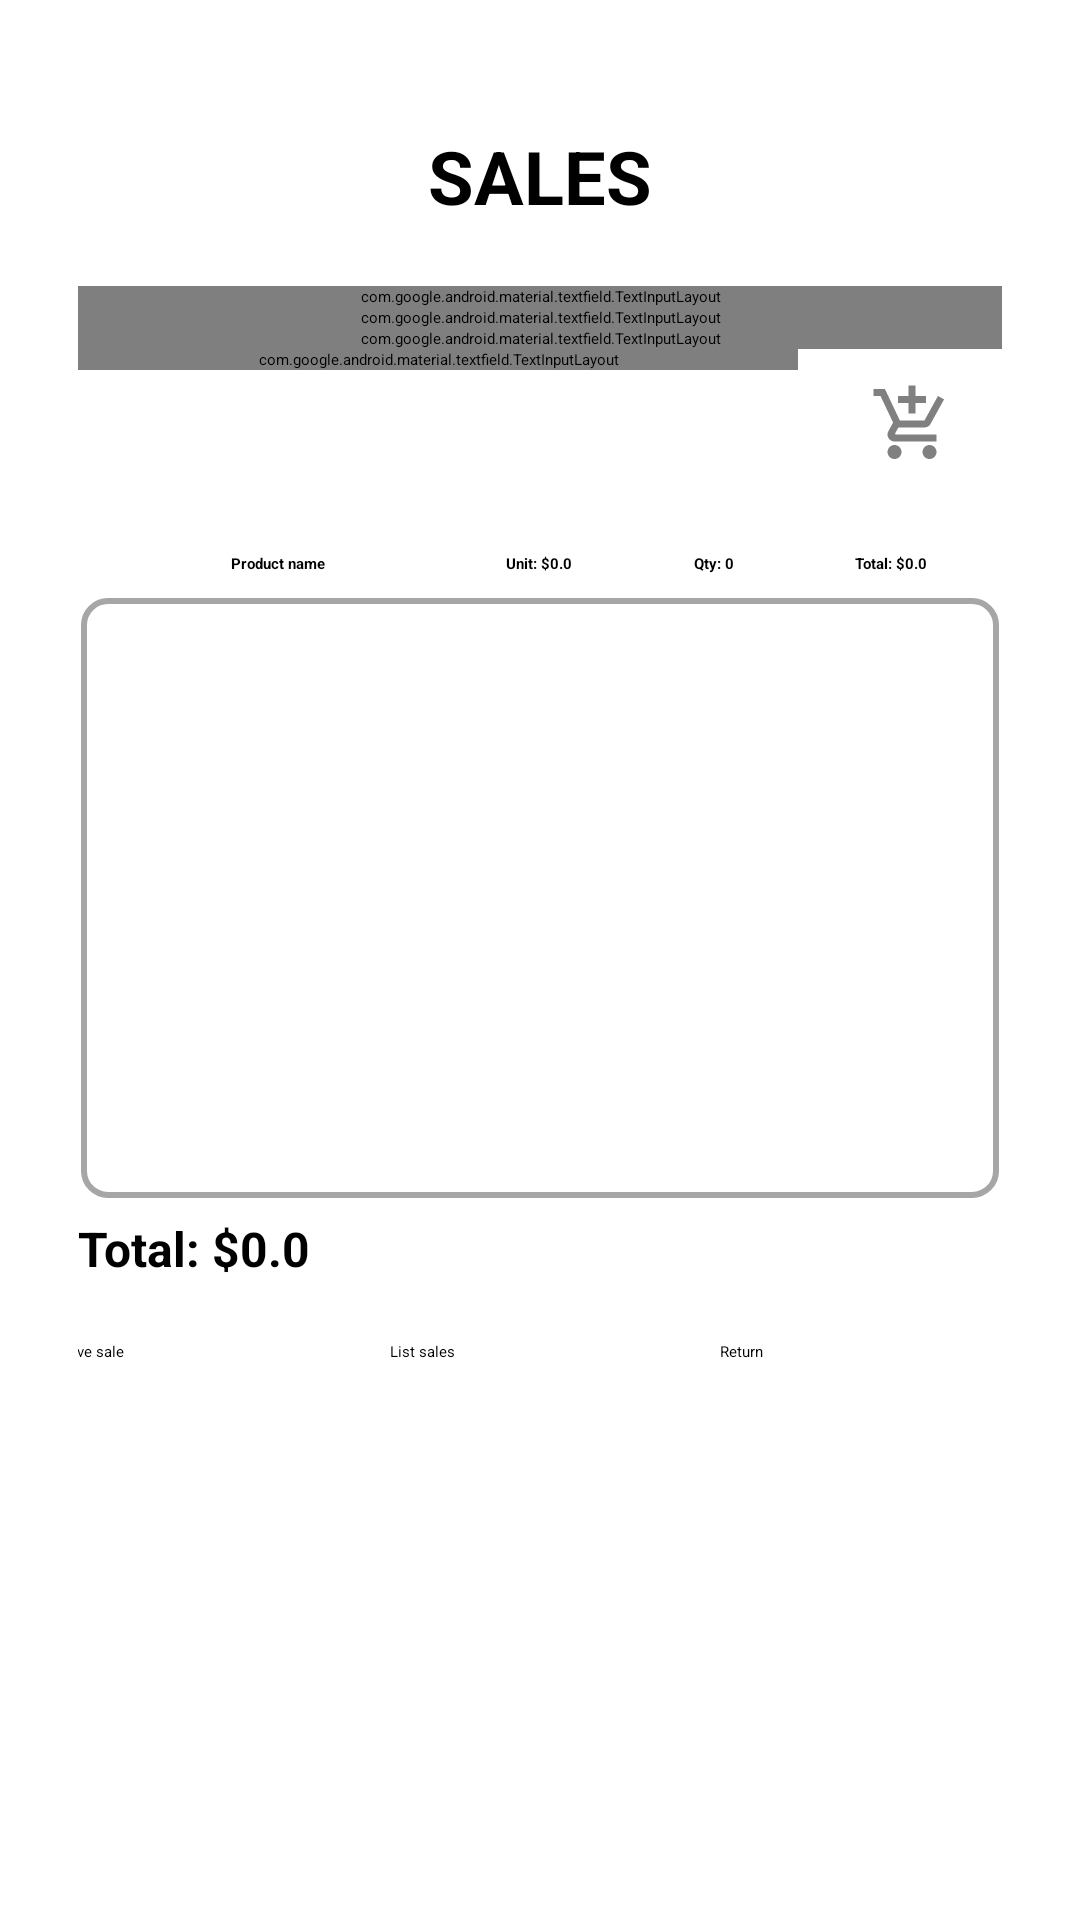

Named icons in this screenshot (1080px×1920px) and their bounding boxes, (x1, y1, x2, y2):
Add: (873, 385, 944, 459)
